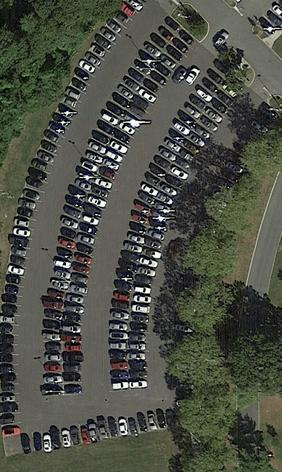parkingspot: (0, 0, 147, 440), (42, 13, 184, 398), (59, 27, 202, 396), (106, 54, 232, 393), (127, 81, 250, 392), (19, 409, 178, 456), (254, 0, 282, 37)
